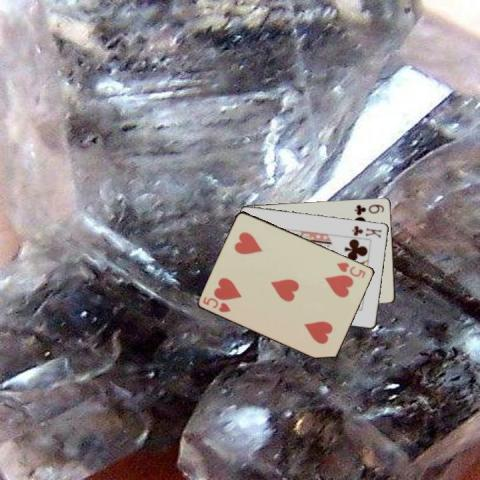5h: (334, 259, 368, 279), (200, 293, 232, 314)
6c: (352, 202, 385, 216)
Kc: (348, 223, 382, 239)
